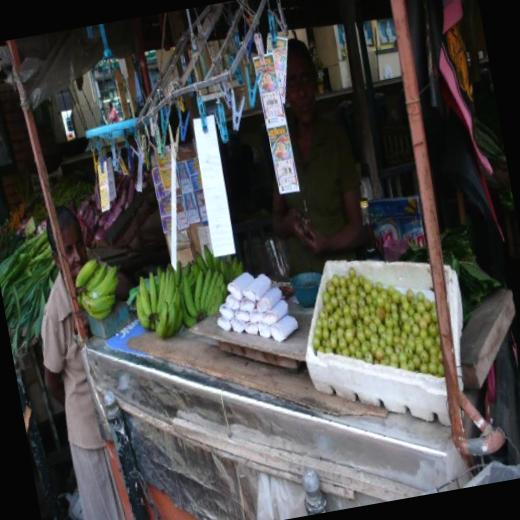Banana: (128, 239, 252, 346), (70, 251, 126, 321)
